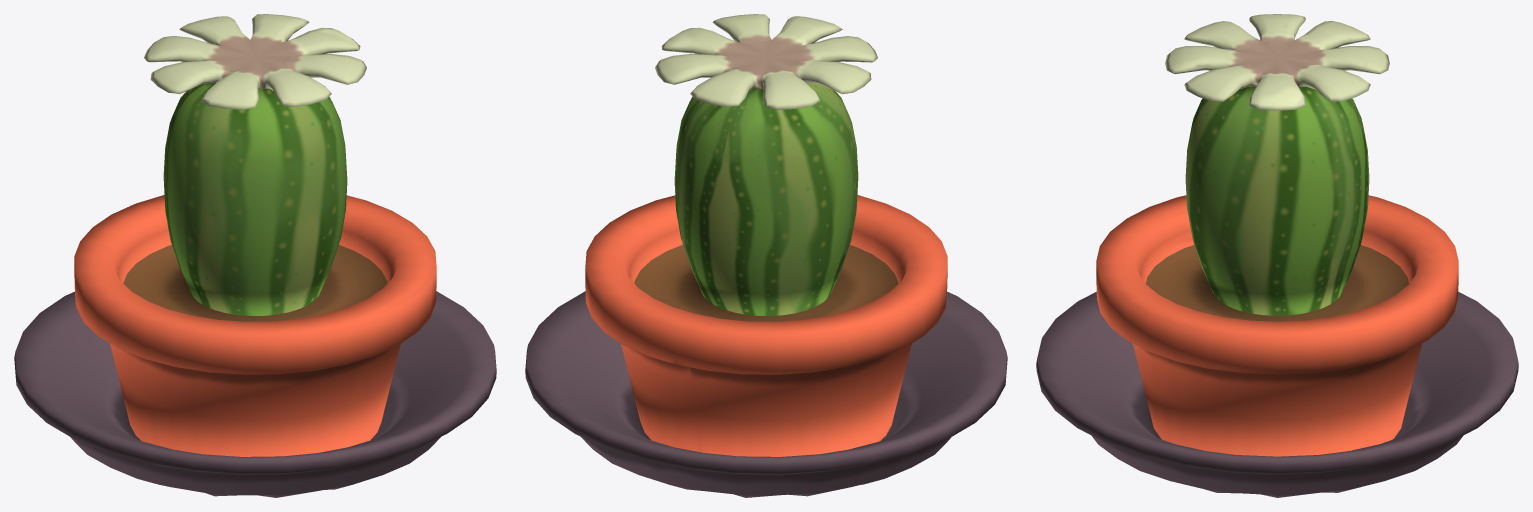
The model's file is Cactus.fbx.
3 renders of one model, left to right at view 1: azimuth 30°, elevation 25°; view 2: azimuth 150°, elevation 25°; view 3: azimuth 270°, elevation 25°, orthographic.
Visible parts, largest first — view 1: PottedPlant; view 2: PottedPlant; view 3: PottedPlant.
Part boxes in pixels (x1=…): PottedPlant: x1=14, y1=14, x2=496, y2=497; PottedPlant: x1=525, y1=14, x2=1007, y2=497; PottedPlant: x1=1036, y1=14, x2=1518, y2=497.
Bounding box in the file's own units: 0.9746 × 0.8755 × 0.9746.
